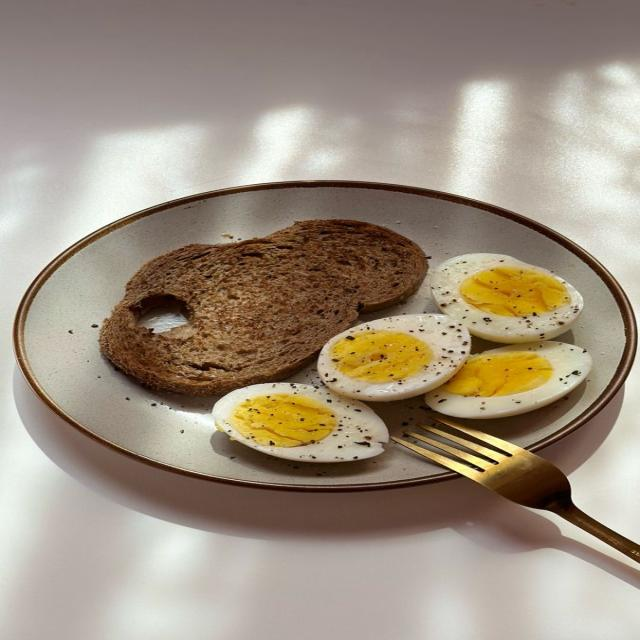eggs: (235, 276, 563, 461)
